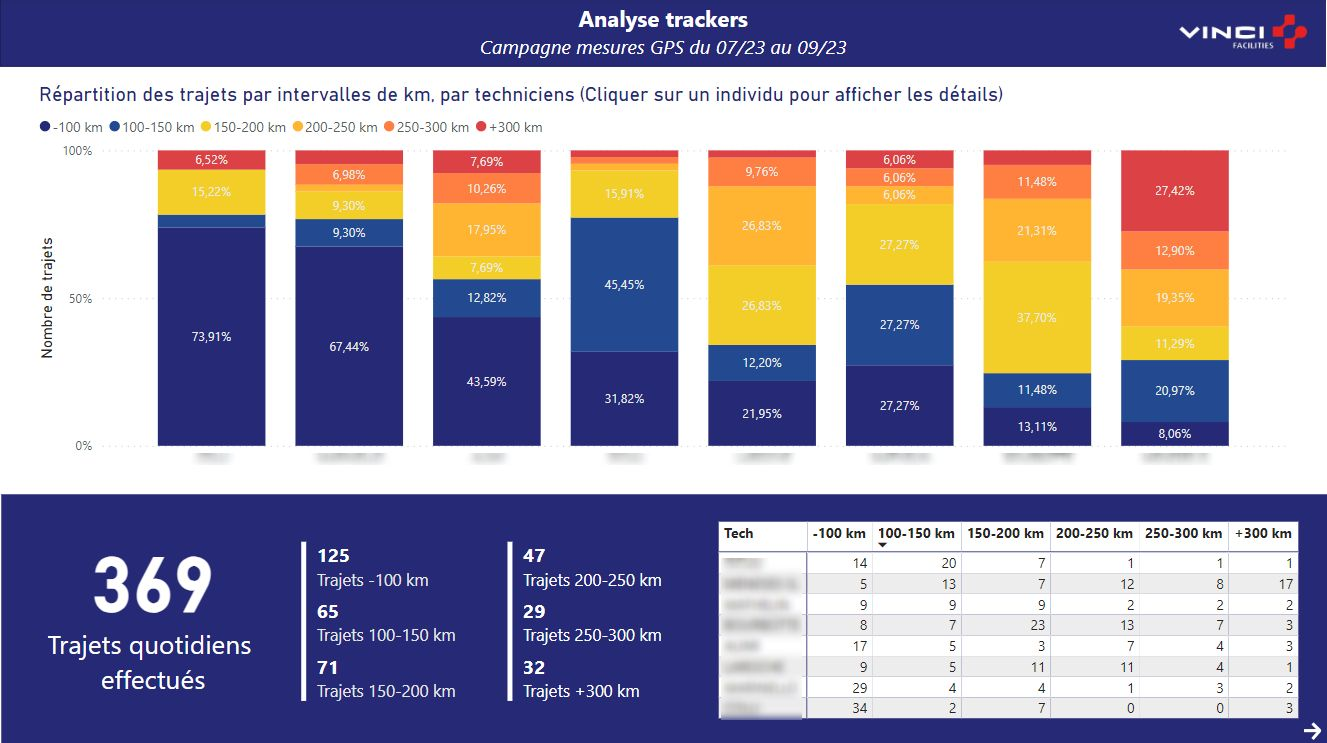

The page's visual inventory and layout, read from the dashboard file:
{"tool":"powerbi","page":{"name":"Analyse trackers","canvas":[1280,720],"ordinal":2},"visuals":[{"type":"shape","box":[0,0,1279.6,66.3],"z":0},{"type":"textbox","box":[0,0,1279.6,66.3],"z":1000},{"type":"image","box":[1118,0,161.6,66.3],"z":2000},{"type":"shape","box":[0.9,478.8,1279.5,241.2],"z":3000},{"type":"pivotTable","title":"Trajets par tranche de km, par techniciens","fields":{"Rows":["Sheet1.nom"],"Values":["Sum(Sheet1.nb trajets -100 km)","Sum(Sheet1.nb trajets 100-150 km)","Sum(Sheet1.nb trajets 150-200 km)","Sum(Sheet1.nb trajets 200-250 km)","Sum(Sheet1.nb trajets 250-300 km)","Sum(Sheet1.nb trajets +300 km)"]},"box":[688.6,500.5,572.9,203.8],"z":4000},{"type":"hundredPercentStackedColumnChart","title":"Répartition des trajets par intervalles de km, par techniciens (Cliquer sur un individu pour afficher les détails)","fields":{"Category":["BDD.nom"],"Y":["Sum(BDD.nb trajets -100 km)","Sum(BDD.nb trajets 100-150 km)","Sum(BDD.nb trajets 150-200 km)","Sum(BDD.nb trajets 200-250 km)","Sum(BDD.nb trajets 250-300 km)","Sum(BDD.nb trajets +300 km)"]},"box":[32.5,82.5,1213.8,380],"z":5000},{"type":"card","fields":{"Values":["BDD.total trajets"]},"box":[32.8,436.3,230.5,271.3],"z":6000},{"type":"multiRowCard","fields":{"Values":["BDD.nb trajets -100 km","BDD.nb trajets 100-150 km","BDD.nb trajets 150-200 km"]},"box":[285.5,519.6,180.9,176.5],"z":7000},{"type":"multiRowCard","fields":{"Values":["BDD.nb trajets 200-250 km","BDD.nb trajets 250-300 km","BDD.nb trajets +300 km"]},"box":[485,519.6,180.9,176.5],"z":8000},{"type":"actionButton","box":[1252.7,694.5,26.4,25.5],"z":9000}]}

Visuals, with their boxes in screenshot pixels (x1, y1, x2, y2), scaled from the page's 1280x720 canvas onto the 1327x743 screenshot:
shape: (0,0,1326,68)
textbox: (0,0,1326,68)
image: (1159,0,1326,68)
shape: (1,494,1326,742)
"Trajets par tranche de km, par techniciens" pivotTable: (714,516,1308,727)
"Répartition des trajets par intervalles de km, par techniciens (Cliquer sur un individu pour afficher les détails)" hundredPercentStackedColumnChart: (34,85,1292,477)
card - BDD.total trajets: (34,450,273,730)
multiRowCard - BDD.nb trajets -100 km x BDD.nb trajets 100-150 km: (296,536,484,718)
multiRowCard - BDD.nb trajets 200-250 km x BDD.nb trajets 250-300 km: (503,536,690,718)
actionButton: (1299,717,1326,742)
